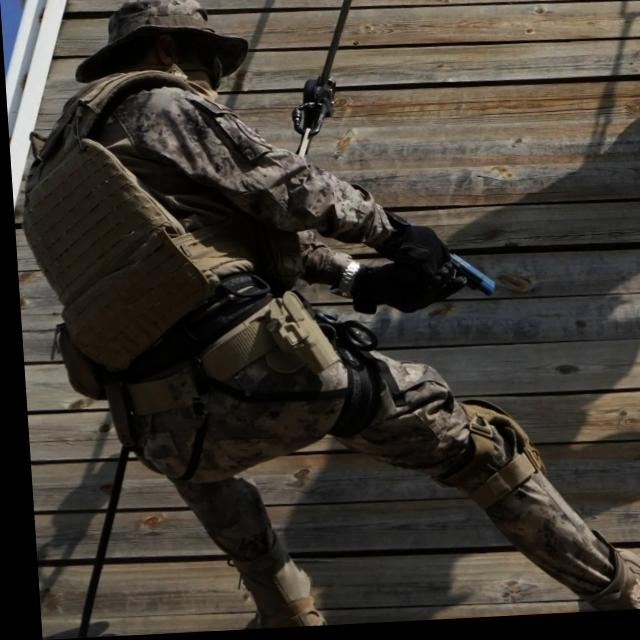poh_personel: (12, 0, 640, 639)
